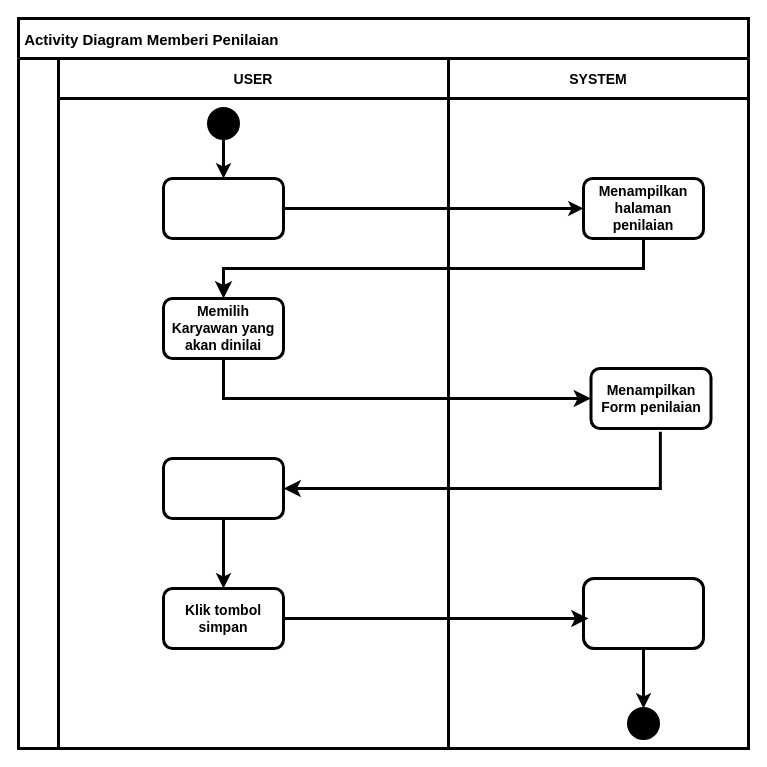
Some shapes in this 767 by 767 pixel diagram are drawn without their labels. The centre of each missing label's shape, as x and y in pixels:
"Memberikan penilaian pada karyawan" goes at point (223, 488).
"Memilih menu penilaian" goes at point (223, 208).
"Menyimpan dan menampilkan halaman penilaian" goes at point (643, 613).
